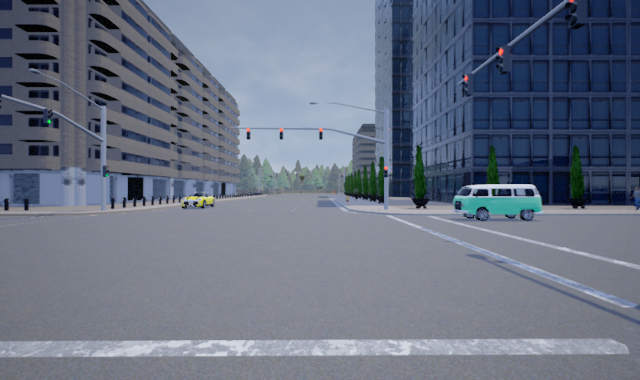traffic_light: (565, 1, 588, 31), (496, 43, 513, 76), (462, 71, 475, 97), (43, 104, 54, 128), (102, 165, 111, 179), (383, 160, 389, 179), (317, 124, 324, 139), (246, 126, 251, 141), (279, 126, 284, 141)
vehicle: (452, 183, 542, 220), (180, 193, 215, 208)
